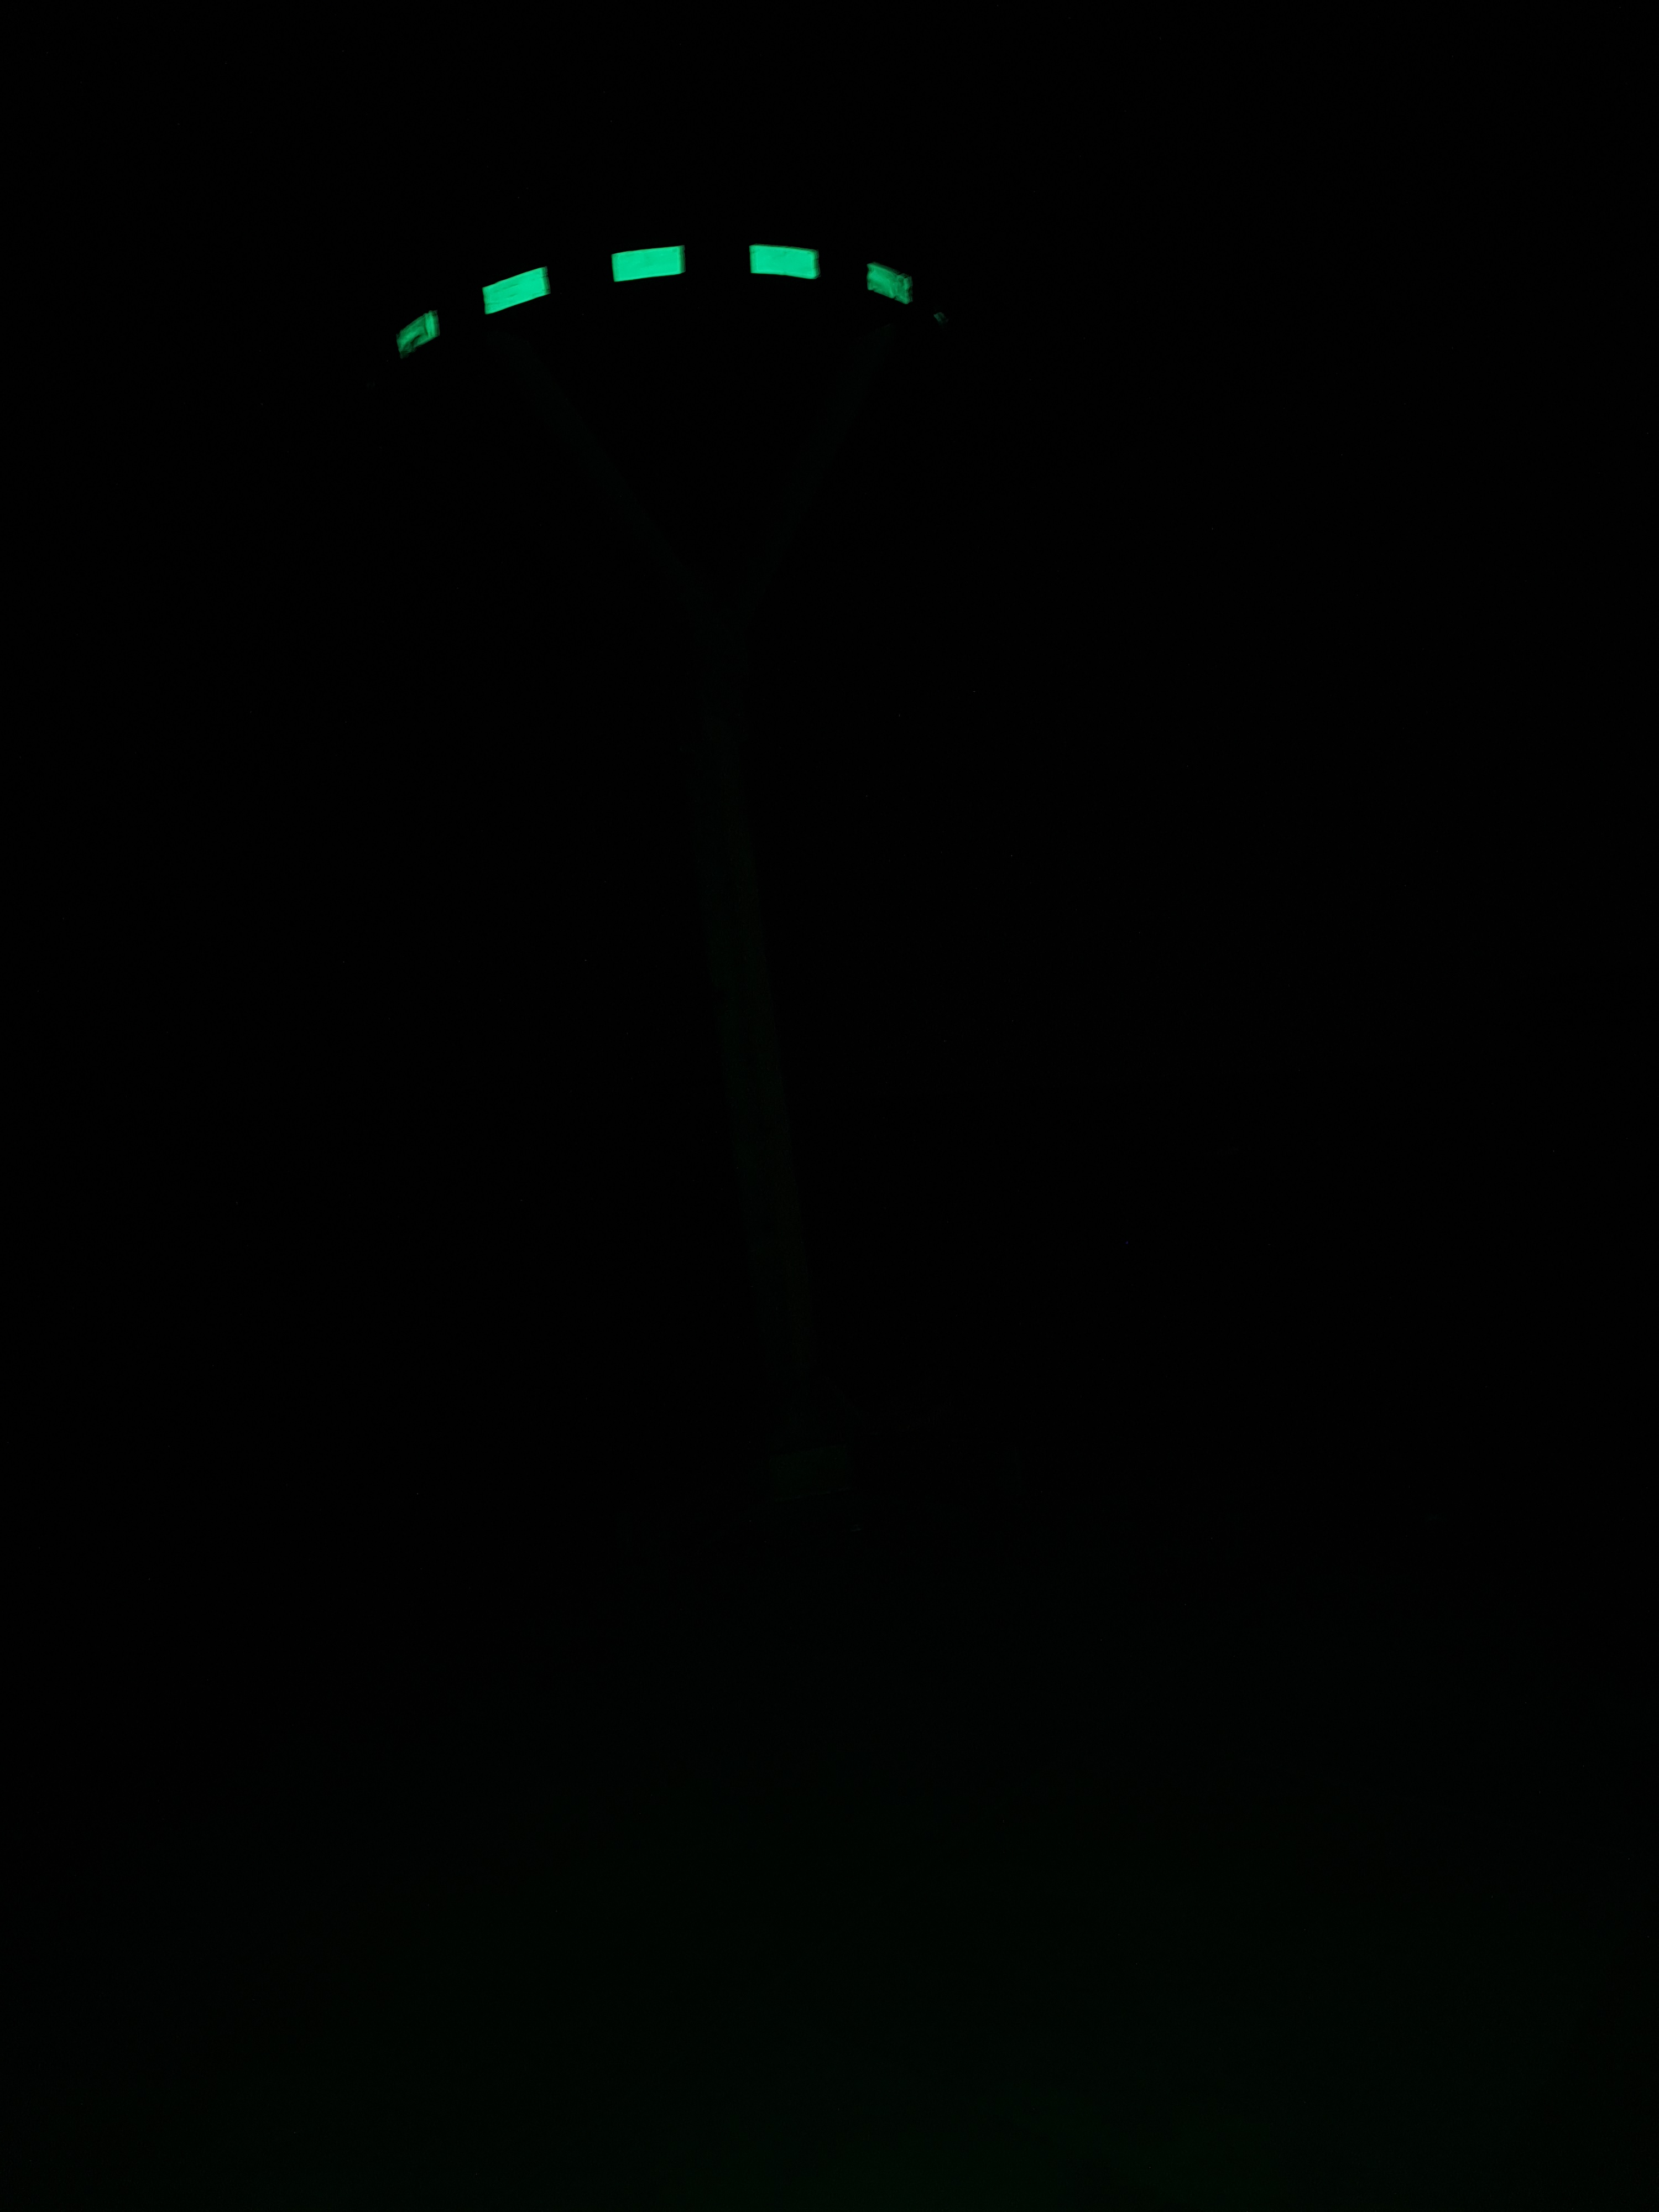hoop: (394, 240, 913, 355)
